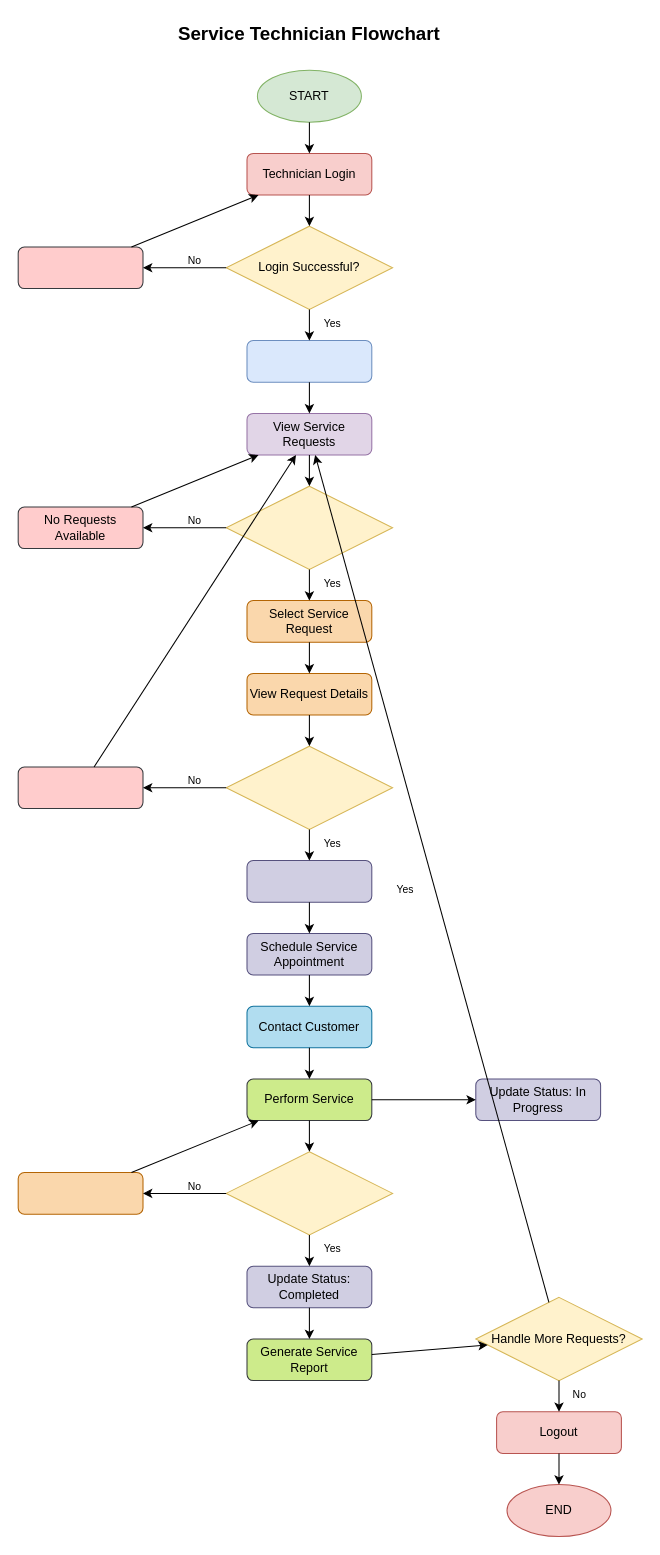
The diagram is 660 pixels wide and 1555 high, and some of its shapes have lost their labels. Here are the shapes that lost their labels. From the top down, the centre of each, then its label:
At point 80,267: "Access Denied".
At point 309,361: "Access Service Dashboard".
At point 309,527: "Service Requests Available?".
At point 80,787: "Decline Request".
At point 309,787: "Accept Request?".
At point 309,881: "Update Status: Accepted".
At point 80,1193: "Additional Work Needed".
At point 309,1193: "Service Complete?".
